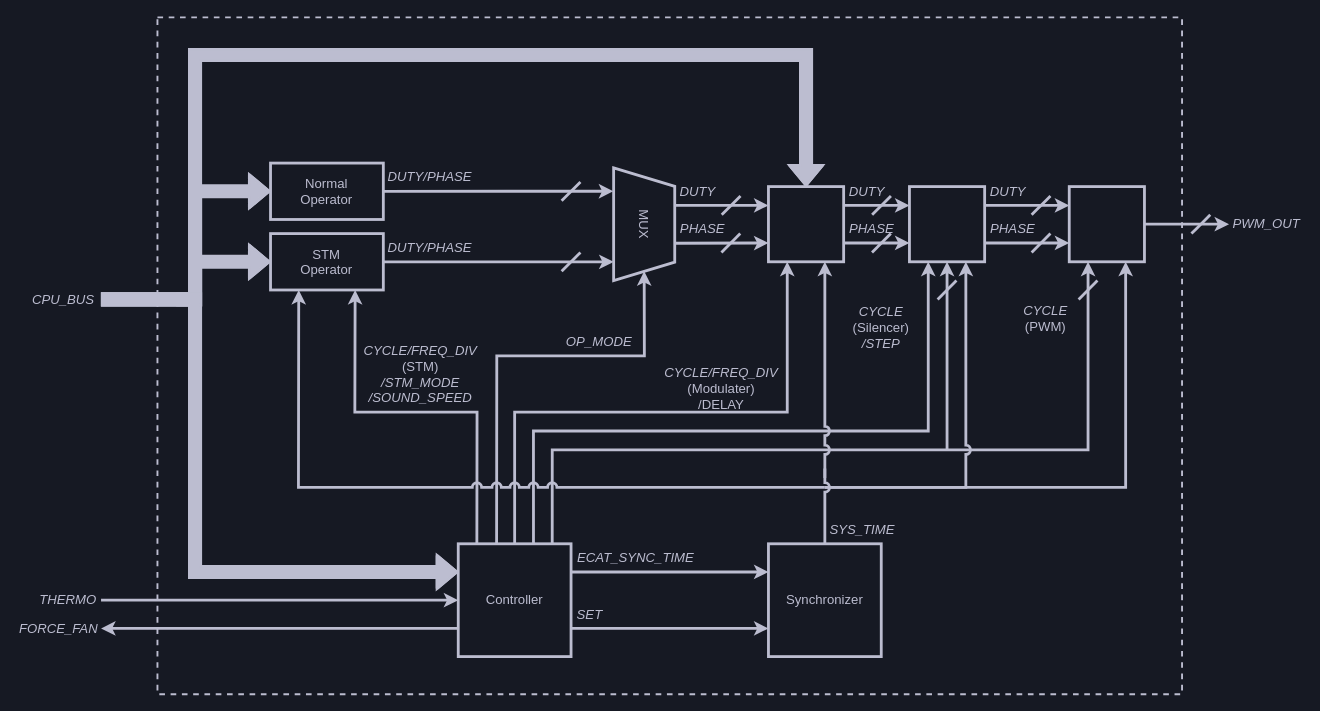
This 1320x711 diagram has some shape labels left out. The centre of each missing label's shape, as x and y in pixels:
"Modulater" goes at point 806,224.
"PWM" goes at point 1106,224.
"Silencer" goes at point 947,224.
